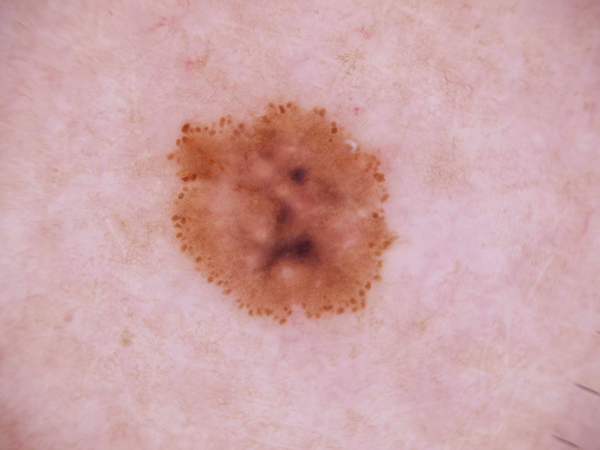Detected Lesion: (160, 97, 408, 327)
